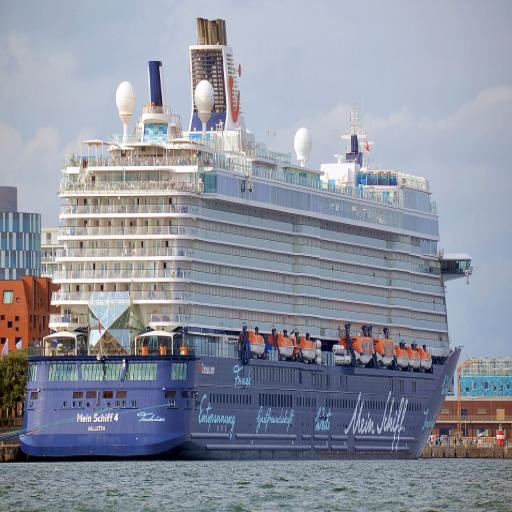cruises: (16, 17, 476, 471)
